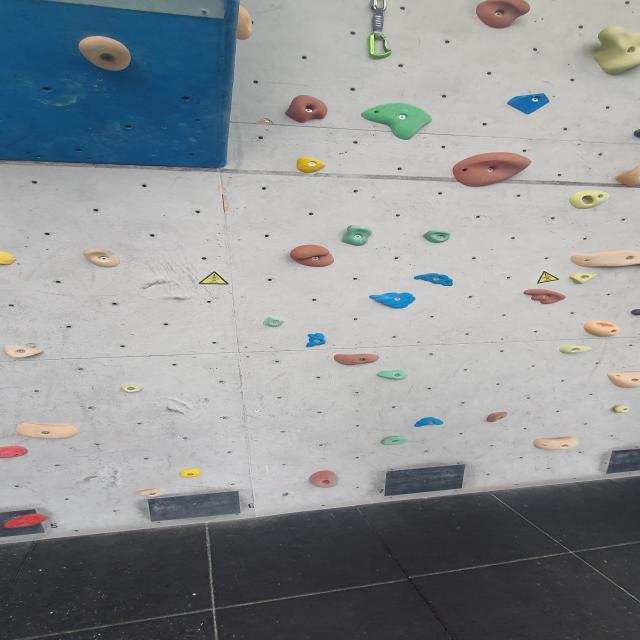Crimp: (358, 105, 434, 142), (16, 424, 81, 439), (368, 292, 417, 308), (4, 514, 52, 530), (332, 352, 382, 365), (4, 345, 46, 358), (295, 159, 328, 175), (560, 272, 603, 284), (412, 274, 454, 286), (304, 332, 330, 349), (414, 417, 449, 429), (376, 369, 409, 381), (0, 446, 29, 459), (382, 434, 410, 446), (257, 316, 287, 327), (483, 411, 508, 423), (120, 384, 146, 394), (179, 468, 202, 477), (612, 405, 630, 416)
Jug: (588, 25, 640, 77), (76, 36, 134, 72), (475, 0, 535, 30), (561, 249, 640, 269), (282, 96, 330, 122), (288, 243, 336, 268), (525, 436, 586, 452), (522, 286, 566, 307), (78, 248, 123, 268), (417, 228, 458, 245), (341, 226, 375, 246), (308, 470, 341, 488), (560, 342, 594, 356), (137, 488, 164, 497)
Pocket: (568, 187, 610, 210), (582, 321, 621, 336)
Sloper: (451, 152, 535, 188)
